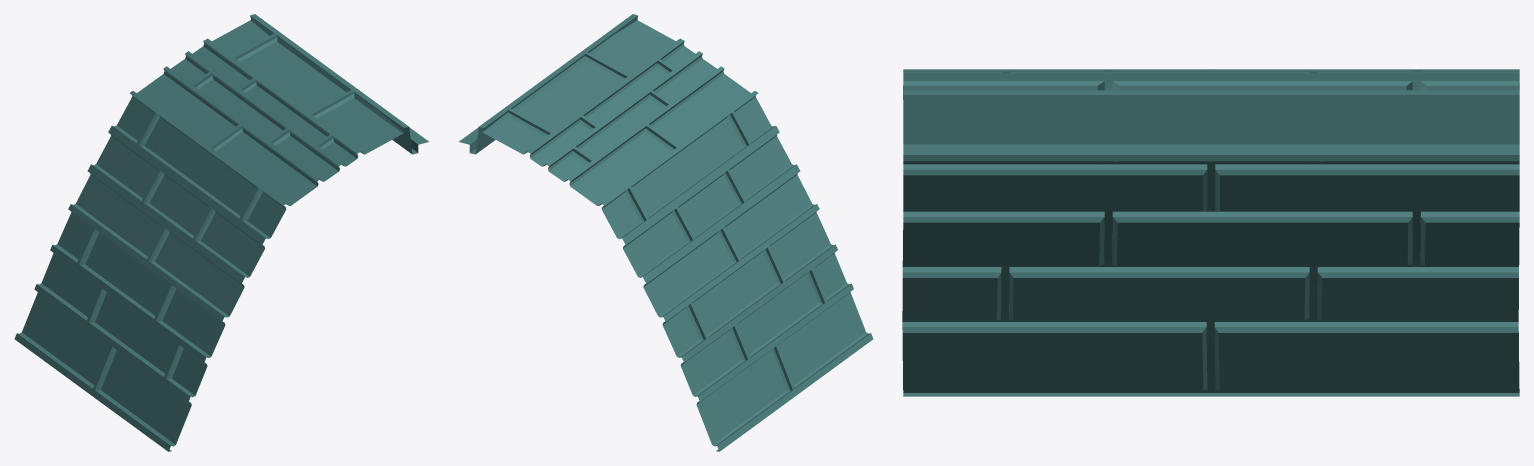
File: Brick_Straight.fbx
3 views of the same model, side by side, from view 1: azimuth 30°, elevation 25°; view 2: azimuth 150°, elevation 25°; view 3: azimuth 270°, elevation 25° (orthographic). The views are drawn at different scales.
Visible parts, largest first — view 1: Brick_Straight; view 2: Brick_Straight; view 3: Brick_Straight.
Boxes of the visible parts, box(x1,y1,x2,y2) form: Brick_Straight: box(14, 14, 428, 451); Brick_Straight: box(459, 14, 873, 451); Brick_Straight: box(902, 69, 1519, 396).
Bounding box in the file's own units: 199 × 194 × 204.
